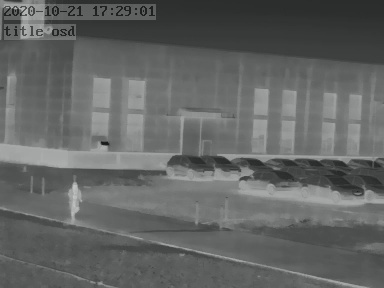person: (65, 181, 81, 223)
vehicle: (305, 173, 358, 200), (239, 169, 303, 191), (164, 153, 212, 179), (204, 153, 242, 177), (349, 173, 382, 200), (232, 155, 270, 171), (347, 155, 379, 170), (262, 155, 296, 169), (295, 155, 323, 169), (318, 156, 347, 169)
